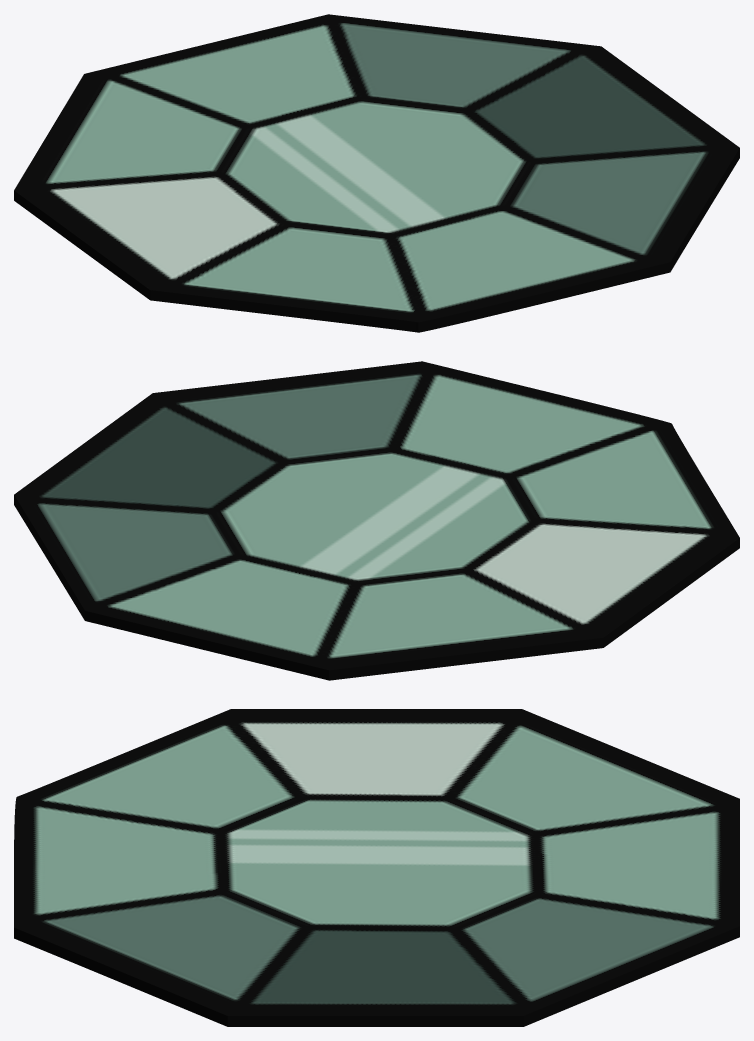
3 views of the same model, one above another, from view 1: azimuth 30°, elevation 25°; view 2: azimuth 150°, elevation 25°; view 3: azimuth 270°, elevation 25° (orthographic). The views are drawn at different scales.
Visible parts, largest first — view 1: path24; view 2: path24; view 3: path24.
Part boxes in pixels (x1,y1,x2,y2): path24: (14,14,739,332); path24: (14,361,739,680); path24: (14,709,739,1026).
Size of the model in its own units: 108 by 1.8 by 108.
1 material, 1 textured.
